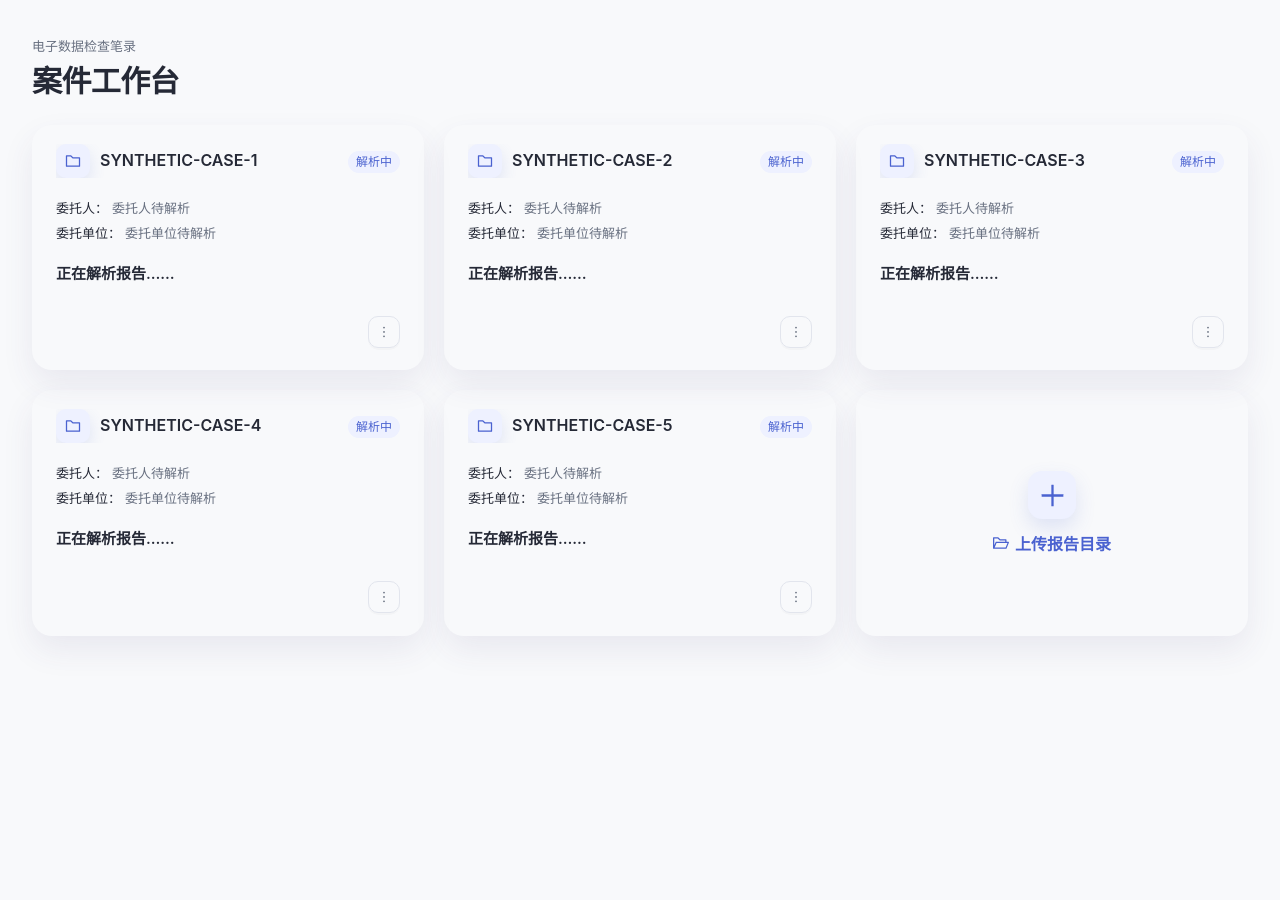
Test: CaseWorkbenchPage › shows a submission response as an immediate case card through the native directory picker endpoint
Check: the number of elements with class "case-workbench-card" is 5, box [32,125,424,370]; [444,125,836,370]; [856,125,1248,370]; [32,390,424,636]; [444,390,836,636]
Click the button "上传报告目录".
click(1052, 513)  # box [856,390,1248,636]
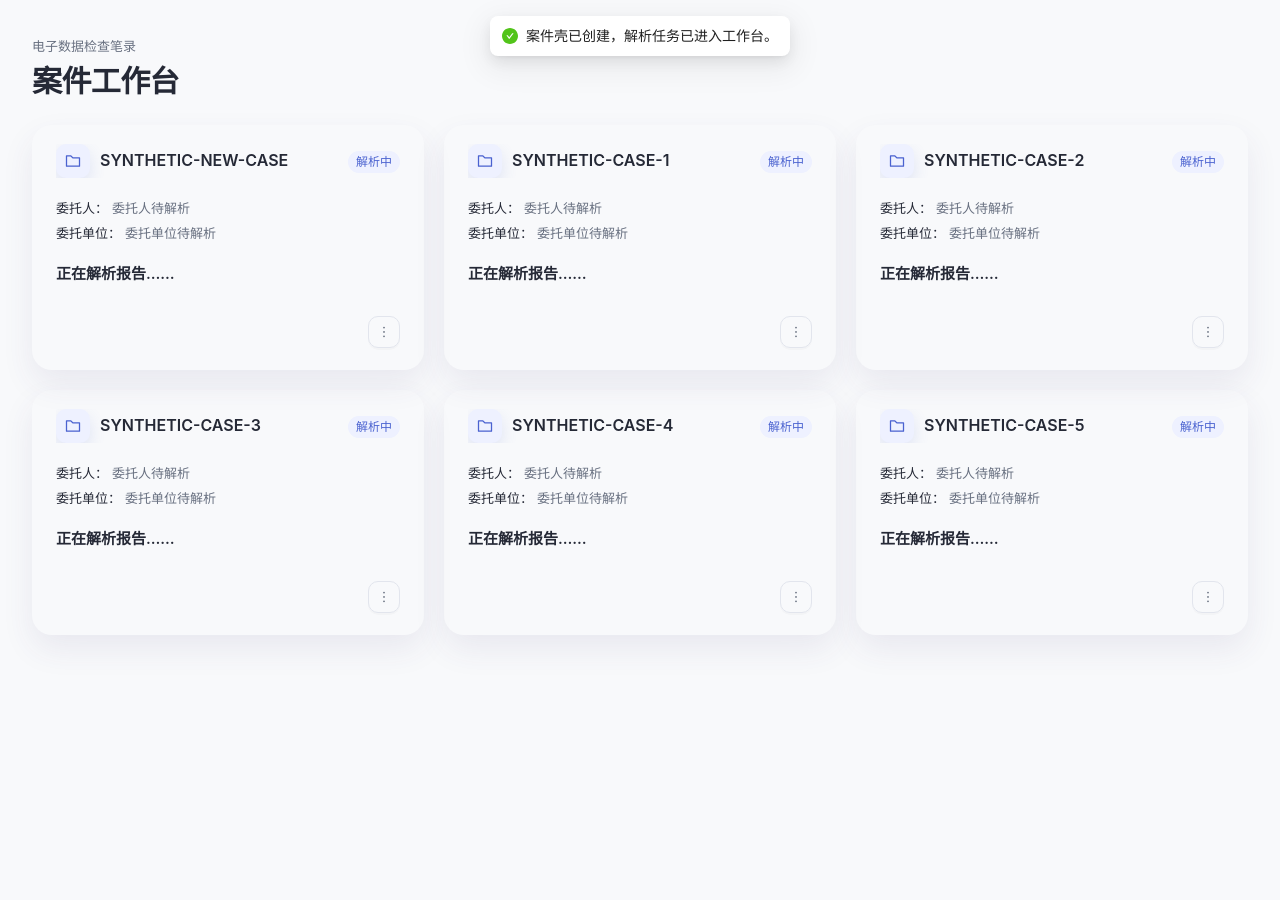
Check: the text "SYNTHETIC-NEW-CASE" is shown, box [100,148,288,174]
